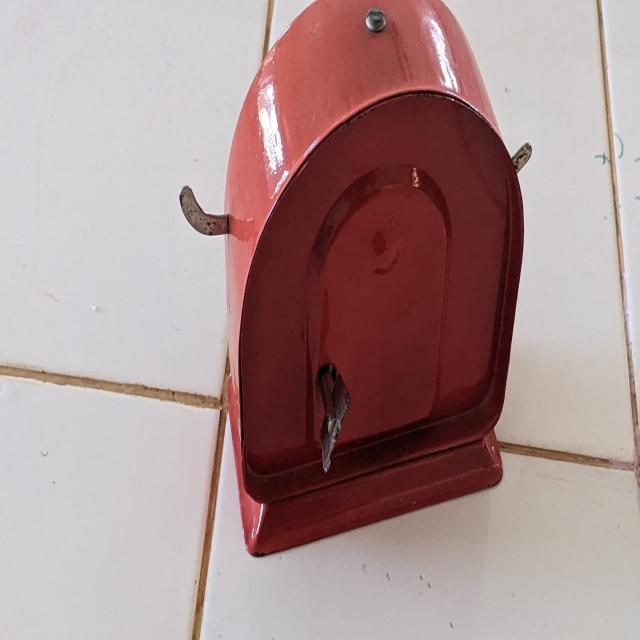Analog Stopwatch: (201, 0, 531, 562)
